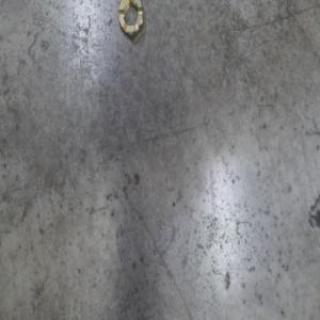Nuttrack_idkeyframe: (116, 0, 145, 37)
